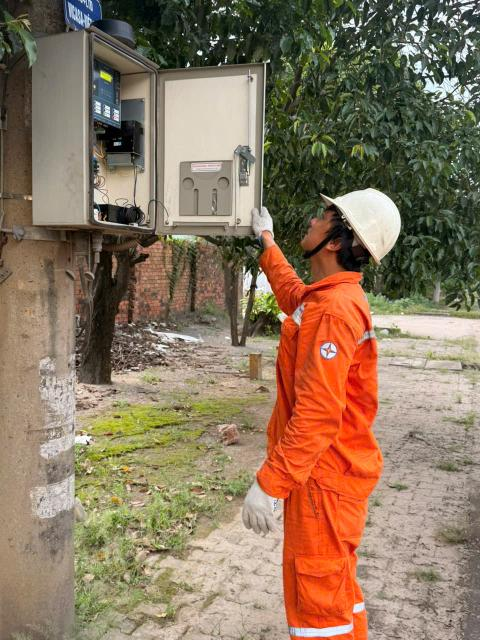gloves: (226, 473, 286, 550), (244, 191, 278, 247)
helmet: (309, 166, 422, 269)
